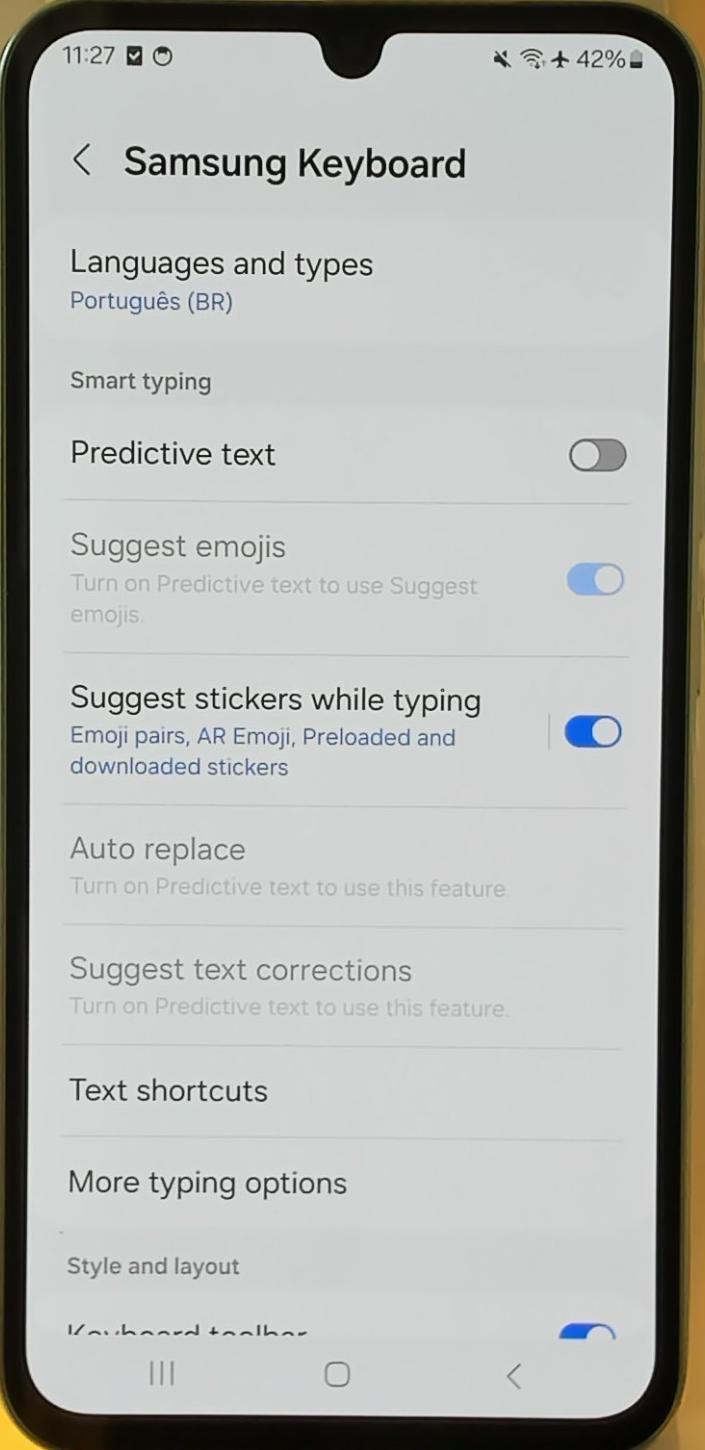Checkbox: (42, 662, 630, 788), (50, 516, 638, 634), (44, 408, 638, 496)
CommunBotton: (44, 1046, 648, 1150), (310, 1342, 362, 1396), (64, 122, 104, 186), (140, 1348, 188, 1396), (494, 1350, 536, 1402)
